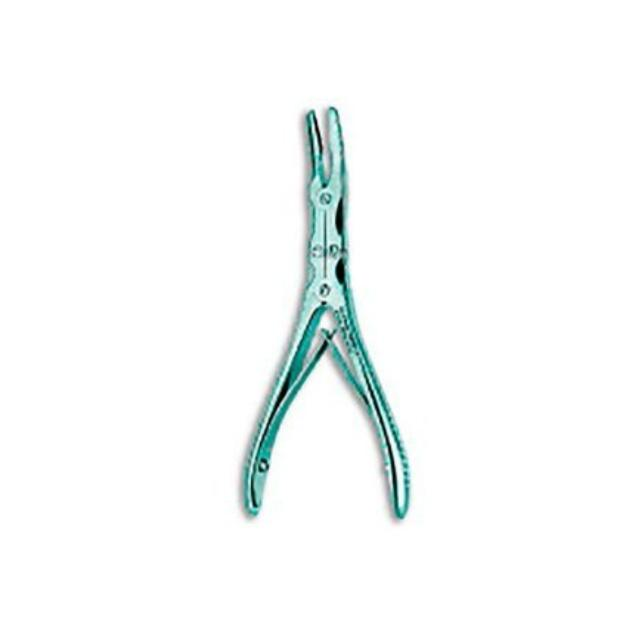gubia: (238, 105, 413, 525)
